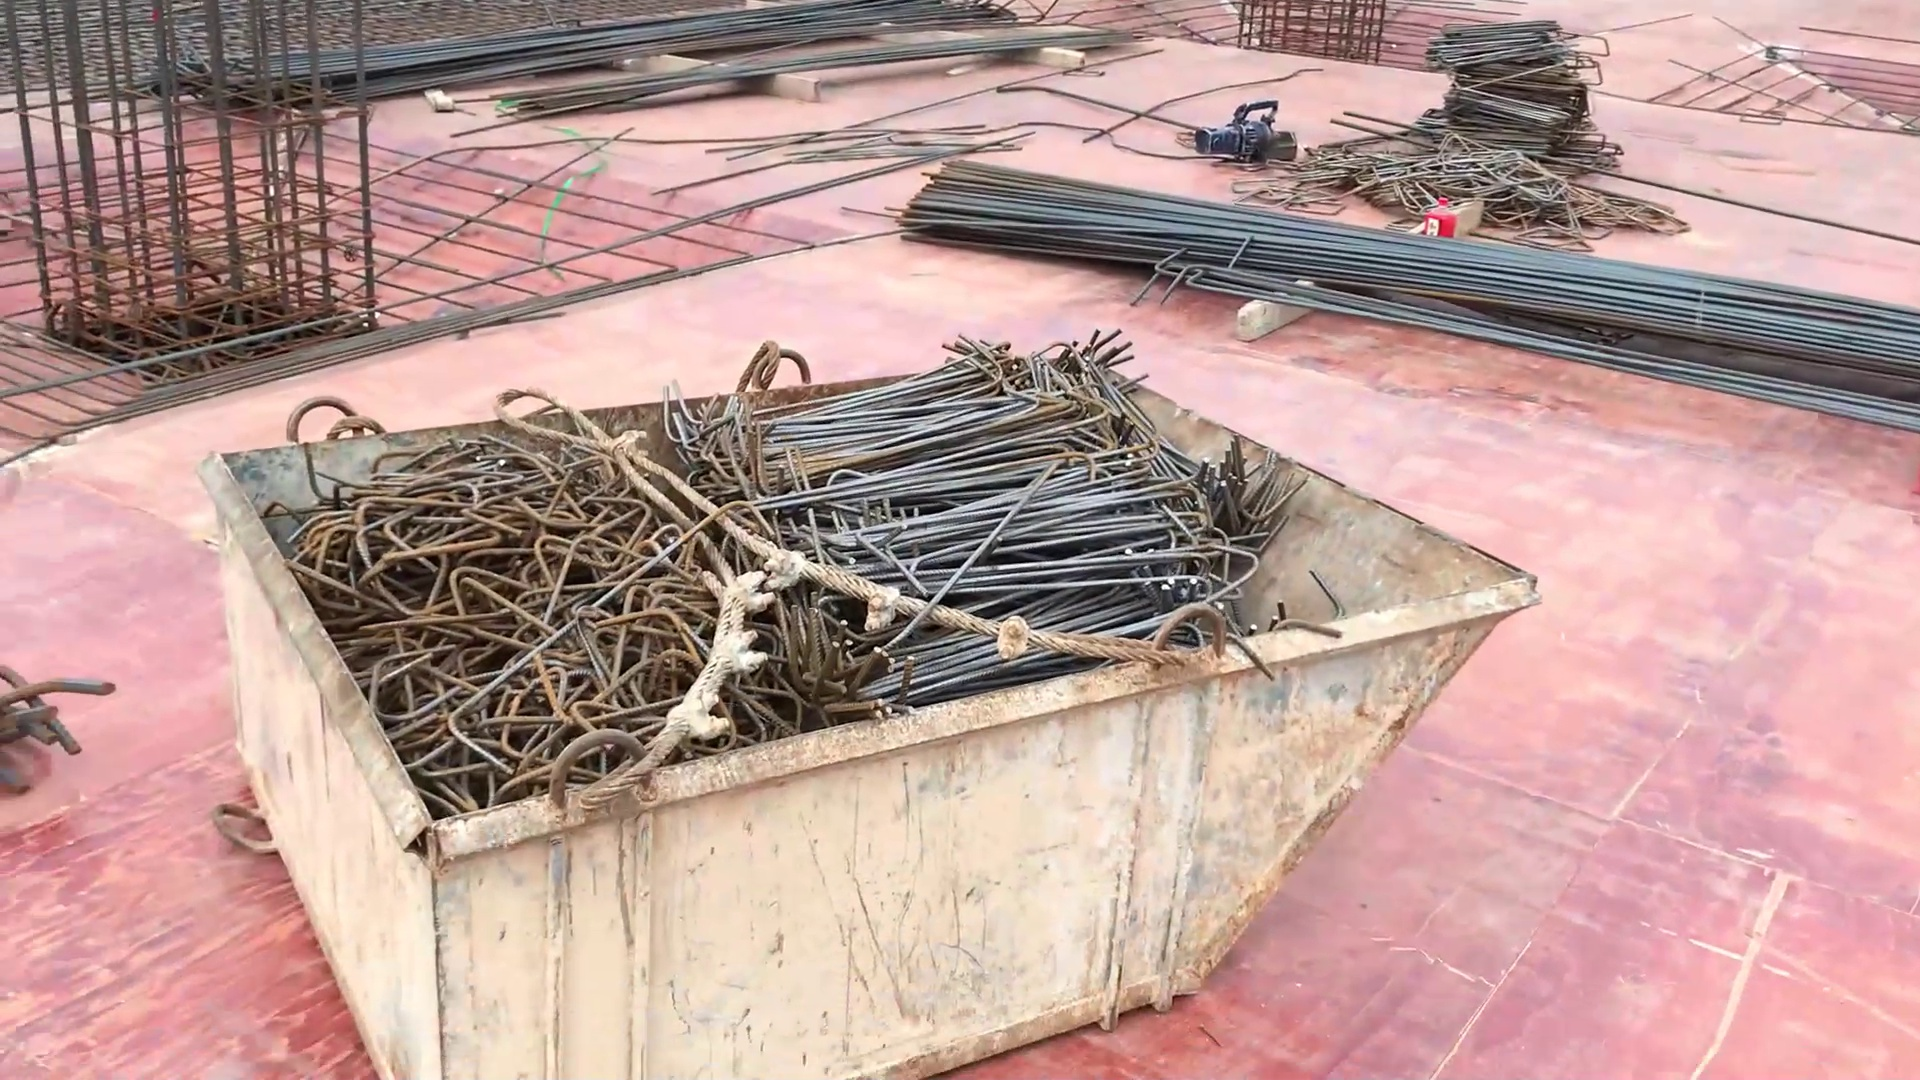hopper: (200, 336, 1548, 1080)
rebar: (869, 146, 1920, 455)
